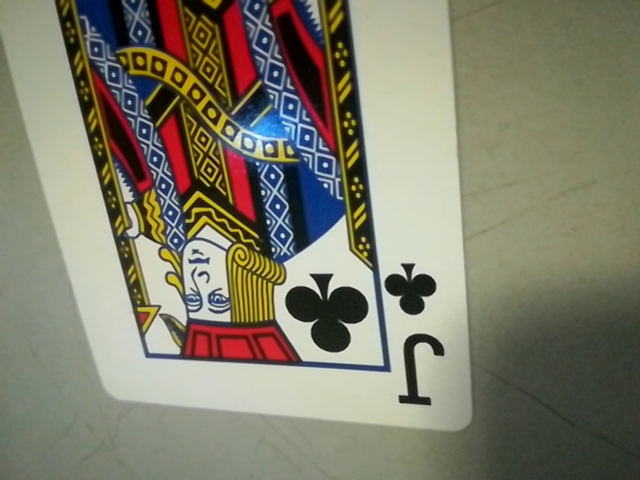mh j: (376, 256, 461, 415)
